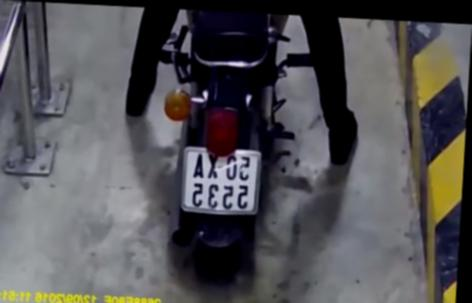License_Plate: (176, 144, 270, 224)
